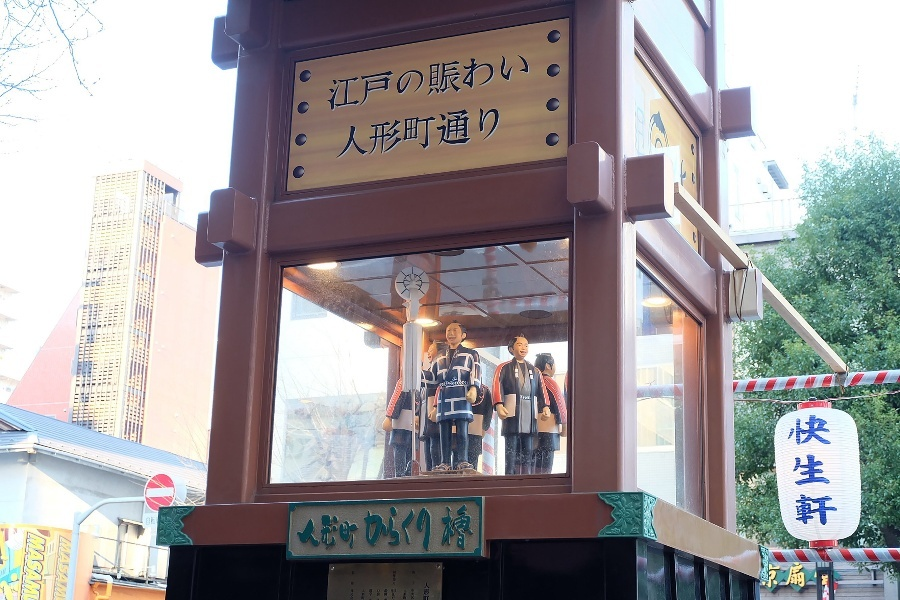text: (801, 413, 816, 526), (817, 413, 832, 526), (786, 413, 800, 526), (337, 50, 352, 111), (353, 50, 368, 111), (369, 50, 384, 111), (385, 50, 400, 111), (401, 50, 416, 111), (417, 50, 432, 111), (433, 50, 448, 111), (449, 50, 464, 111), (465, 50, 480, 111), (481, 50, 496, 111), (497, 50, 512, 111), (513, 50, 528, 111), (353, 104, 368, 159), (369, 104, 384, 159), (385, 104, 400, 159), (401, 104, 416, 159), (417, 104, 432, 159), (433, 104, 448, 159), (449, 104, 464, 159), (465, 104, 480, 159), (481, 104, 496, 159), (51, 538, 64, 600), (33, 533, 45, 596), (339, 104, 352, 159), (305, 505, 320, 552), (321, 505, 336, 552), (337, 505, 352, 552), (353, 505, 368, 552), (369, 505, 384, 552), (385, 505, 400, 552), (401, 505, 416, 552), (417, 505, 432, 552), (433, 505, 448, 552), (449, 505, 464, 552), (833, 413, 838, 526), (327, 50, 336, 111), (785, 562, 800, 589), (770, 562, 784, 589), (65, 538, 71, 600), (465, 505, 472, 552), (298, 505, 304, 552), (392, 571, 400, 600), (801, 562, 806, 589), (403, 589, 416, 599), (424, 583, 432, 599), (30, 533, 32, 596), (146, 517, 160, 526), (529, 50, 531, 111), (370, 589, 384, 597), (497, 104, 499, 159), (412, 571, 416, 586), (362, 590, 368, 600), (353, 571, 355, 599), (411, 589, 416, 600), (377, 590, 384, 597), (385, 589, 388, 600), (351, 571, 352, 599)
